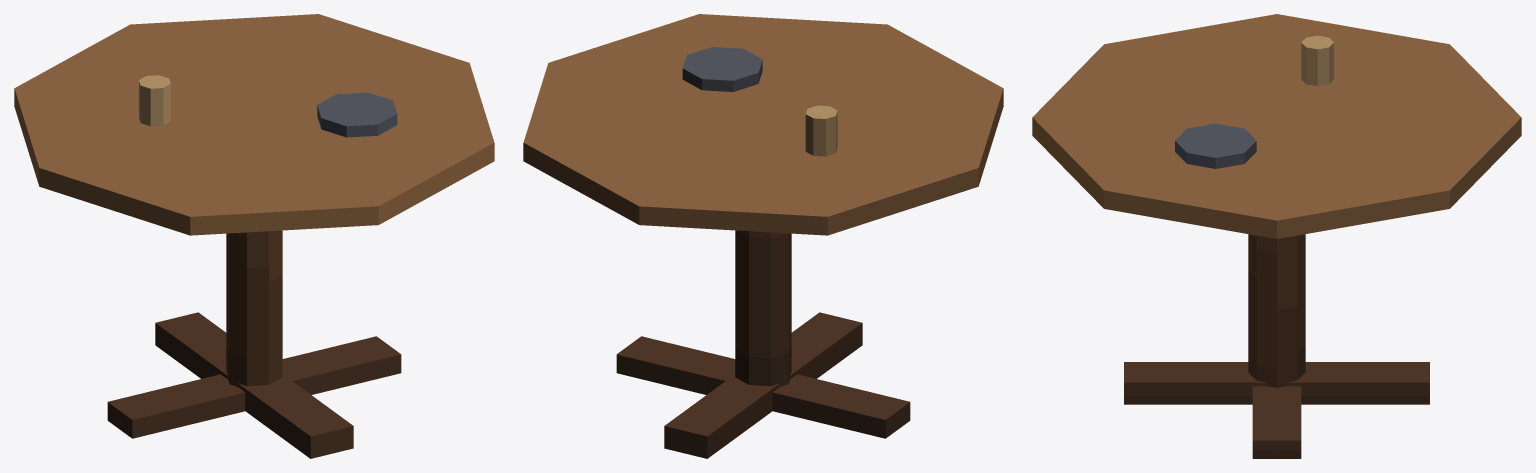
File: round_table.glb
The picture shows the model from 3 angles, left to right: view 1: azimuth 30°, elevation 25°; view 2: azimuth 150°, elevation 25°; view 3: azimuth 270°, elevation 25°; orthographic projection.
Bounding box in the file's own units: 1.2 × 0.85 × 1.2.
Materials: 1 (1 with a texture image).
